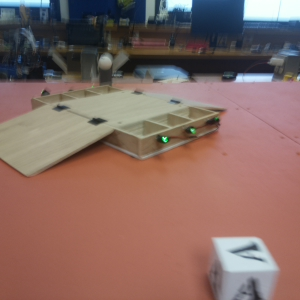blockA: (196, 224, 276, 300)
obstacle: (96, 53, 117, 86)
side: (123, 111, 220, 156), (33, 89, 121, 101)
slope: (2, 103, 112, 175), (134, 87, 228, 111)
